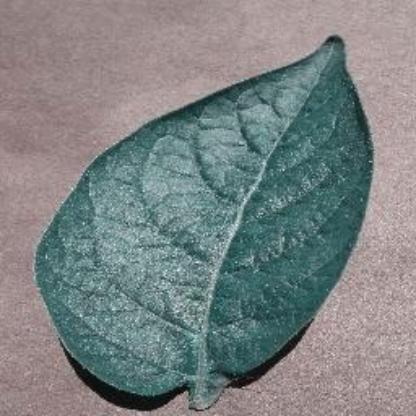Healthy-plant: (30, 26, 402, 411)
